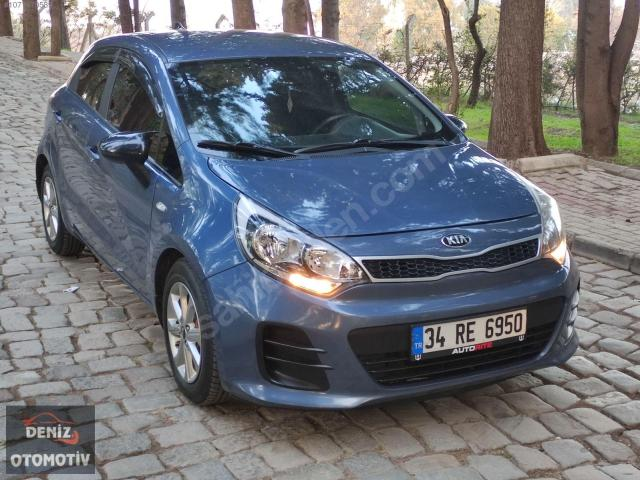plaka: (411, 309, 527, 360)
